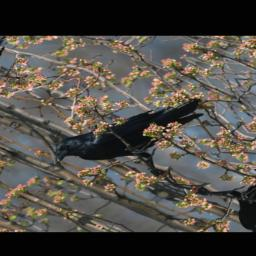Crow: (36, 77, 237, 196)
